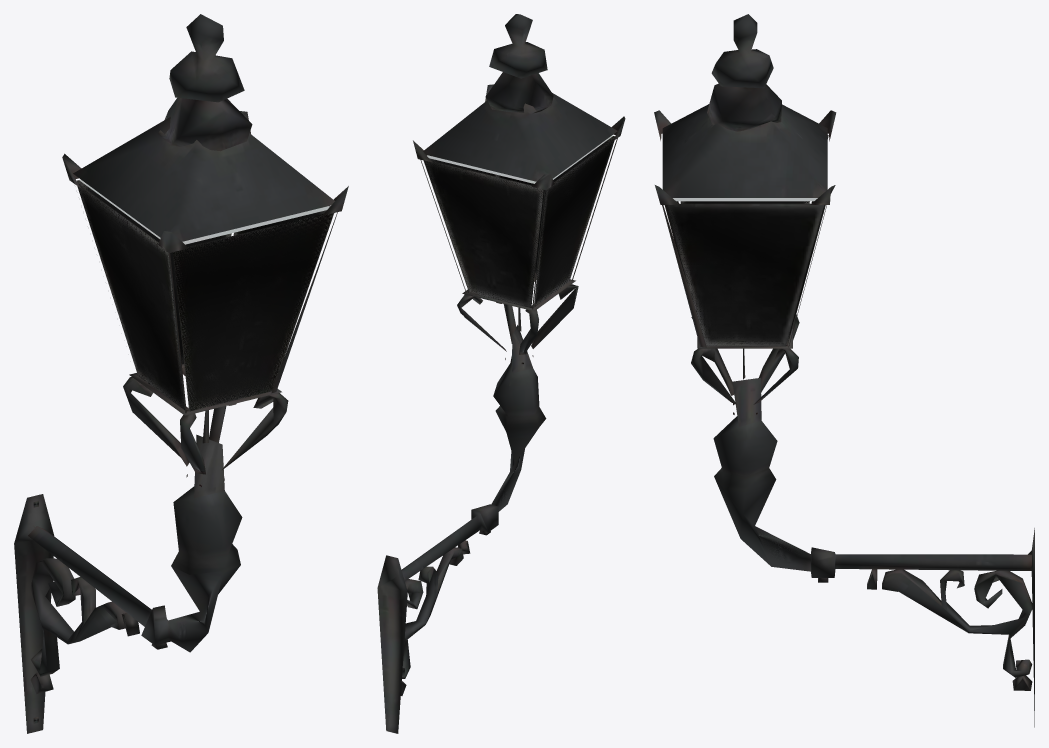
The model's file is p_lamp_2.glb.
3 renders of one model, left to right at view 1: azimuth 30°, elevation 25°; view 2: azimuth 150°, elevation 25°; view 3: azimuth 270°, elevation 25°, orthographic. The views are drawn at different scales.
Parts seen in each view (by area): view 1: street_lamp_02; view 2: street_lamp_02; view 3: street_lamp_02.
Part boxes in pixels (x1=…): street_lamp_02: x1=14, y1=14, x2=348, y2=733; street_lamp_02: x1=377, y1=14, x2=625, y2=733; street_lamp_02: x1=654, y1=14, x2=1034, y2=727.
Bounding box in the file's own units: 0.3856 × 1.67 × 0.8066.
3 materials, 3 textured.
